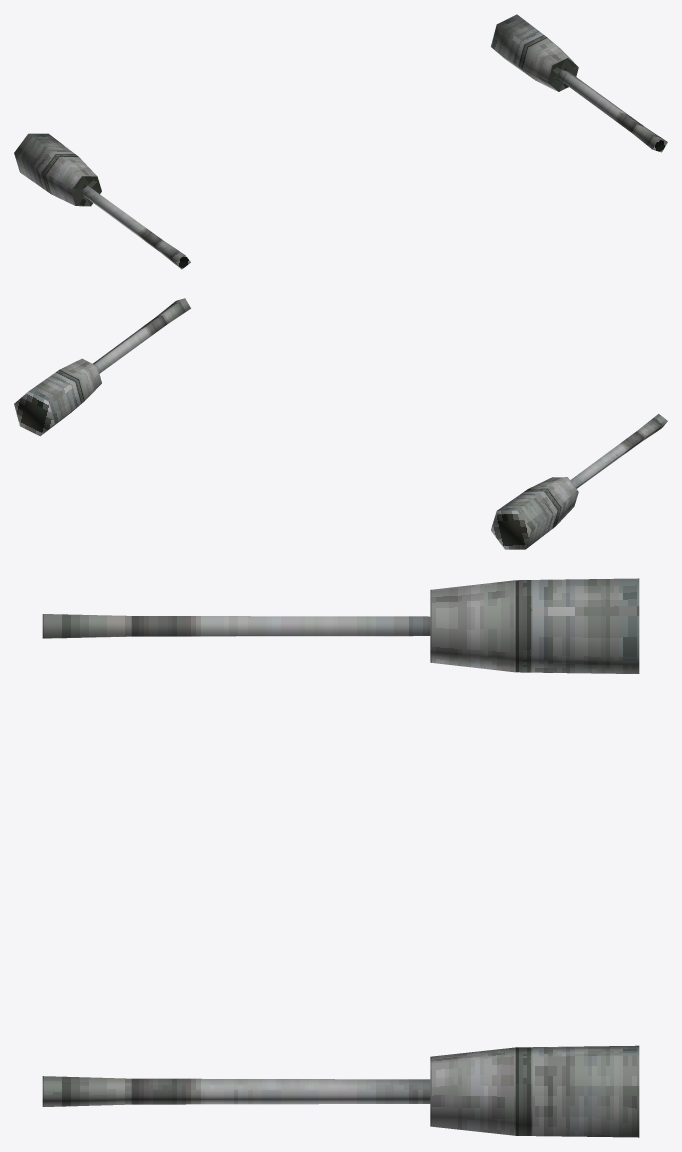
The model's file is black_sun_fighter_medium_weapon2_s05_l2.fbx.
3 views of the same model, one above another, from view 1: azimuth 30°, elevation 25°; view 2: azimuth 150°, elevation 25°; view 3: azimuth 270°, elevation 25° (orthographic). The views are drawn at different scales.
Parts seen in each view (by area): view 1: mesh_node; view 2: mesh_node; view 3: mesh_node.
Boxes of the visible parts, left/top/right/bottom form: mesh_node: left=14, top=14, right=667, bottom=269; mesh_node: left=14, top=298, right=667, bottom=549; mesh_node: left=42, top=578, right=639, bottom=1137.
Bounding box in the file's own units: 7.43 × 0.5762 × 3.71.
1 material, 1 textured.
